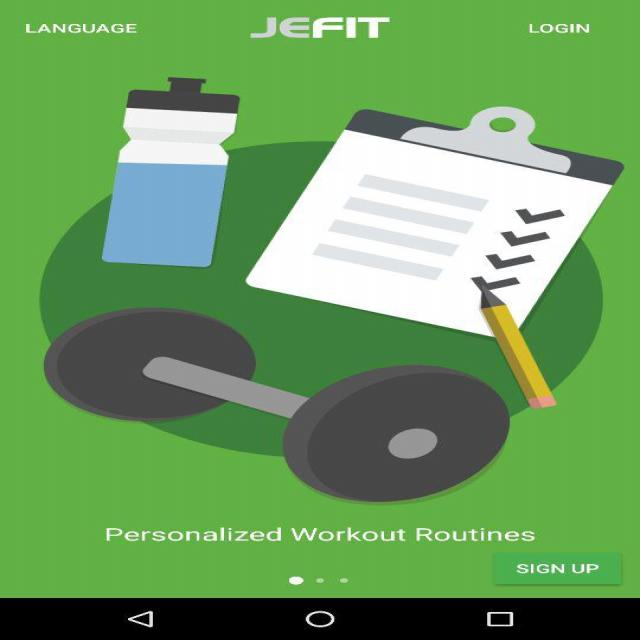button: (476, 550, 636, 591), (5, 7, 168, 45), (496, 8, 615, 50), (236, 563, 371, 594)
image: (5, 64, 633, 498)
text: (71, 513, 556, 549), (234, 8, 391, 49), (7, 12, 153, 42), (500, 554, 613, 579), (506, 17, 601, 39)
